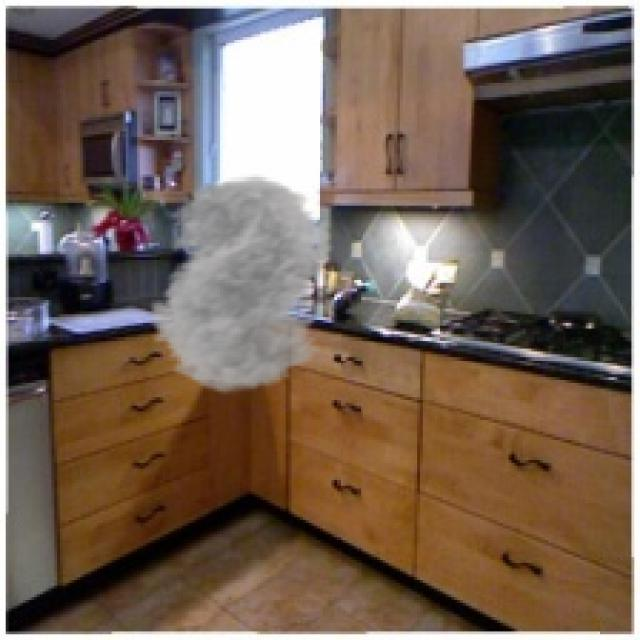smoke: (132, 174, 357, 394)
